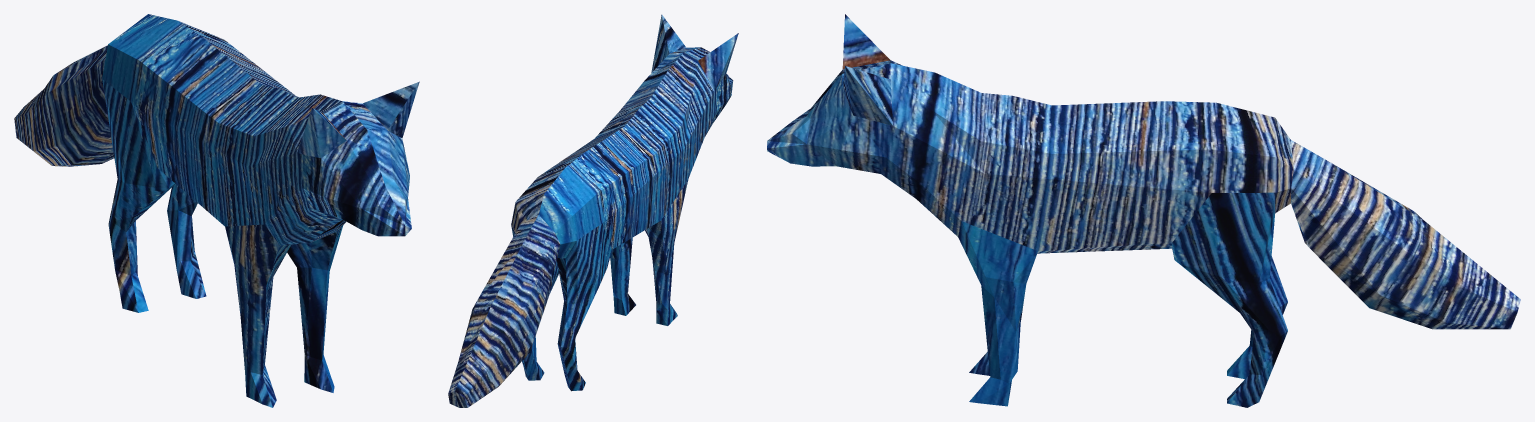
Rendered from fox.obj.
3 views of the same model, side by side, from view 1: azimuth 30°, elevation 25°; view 2: azimuth 150°, elevation 25°; view 3: azimuth 270°, elevation 25° (orthographic). The views are drawn at different scales.
Visible parts, largest first — view 1: fox1; view 2: fox1; view 3: fox1.
Part boxes in pixels (<box>): fox1: <box>14,14,419,407</box>; fox1: <box>448,14,738,407</box>; fox1: <box>767,14,1520,407</box>.
Size of the model in its own units: 25.19 by 79.03 by 155.
